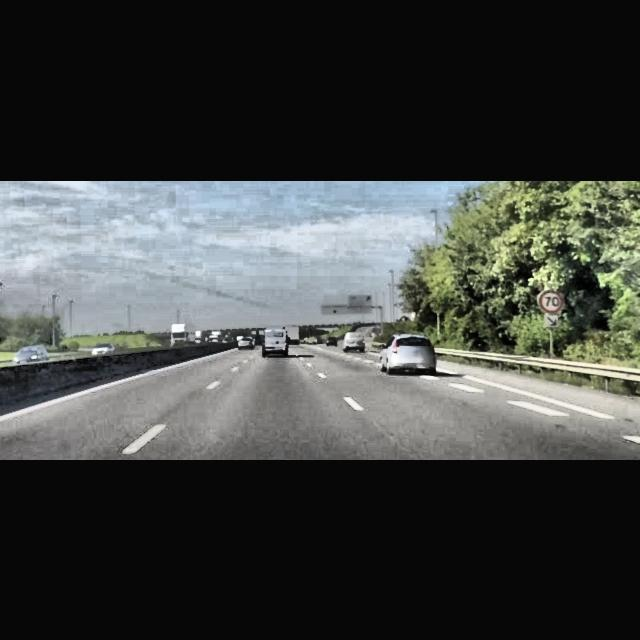speed_70: (538, 290, 564, 312)
